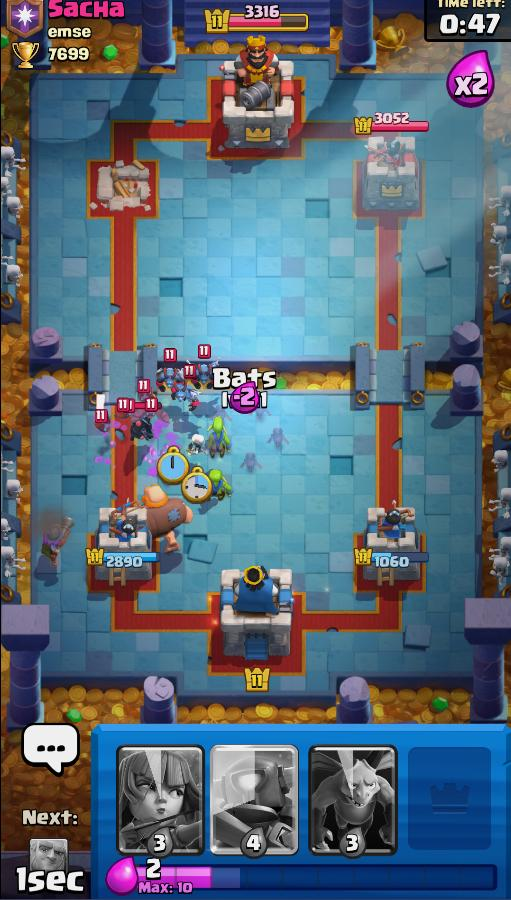bat: (266, 425, 291, 451), (239, 450, 262, 475), (95, 415, 115, 439), (109, 402, 137, 419), (136, 390, 162, 407)
gargouille: (166, 383, 203, 412), (186, 361, 221, 388), (153, 364, 186, 391)
geant: (131, 486, 194, 553)
gobelin: (203, 467, 232, 506), (206, 420, 231, 461)
mini_PEKKA: (126, 414, 156, 443)
mousquetaire: (35, 511, 74, 566)
squelette: (185, 434, 207, 458)
